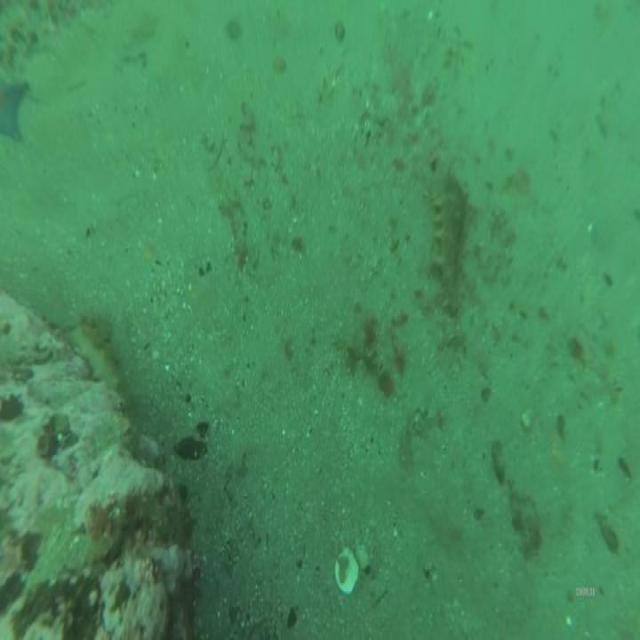holothurian: (70, 308, 126, 414), (431, 166, 468, 302)
scallop: (334, 546, 361, 598)
